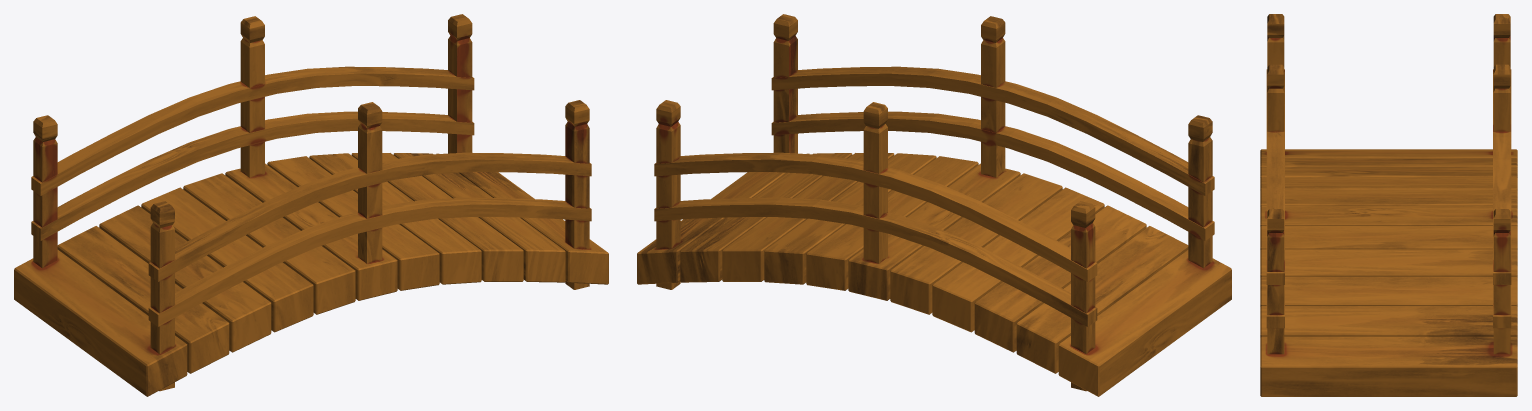
The model's file is Bridge.fbx.
3 views of the same model, side by side, from view 1: azimuth 30°, elevation 25°; view 2: azimuth 150°, elevation 25°; view 3: azimuth 270°, elevation 25° (orthographic). The views are drawn at different scales.
Parts seen in each view (by area): view 1: Cube.033, Cube.032, Cube.028; view 2: Cube.033, Cube.032, Cube.028; view 3: Cube.033, Cube.028, Cube.032.
Boxes of the visible parts, x1,y1,x2,y2 form: Cube.033: [14, 153, 608, 396]; Cube.032: [31, 66, 591, 326]; Cube.028: [33, 14, 589, 391]; Cube.033: [637, 153, 1231, 396]; Cube.032: [654, 66, 1214, 326]; Cube.028: [656, 14, 1212, 391]; Cube.033: [1260, 149, 1517, 396]; Cube.028: [1267, 14, 1510, 354]; Cube.032: [1266, 69, 1511, 328].
Size of the model in its own units: 600 by 285 by 300.
1 material, 1 textured.
